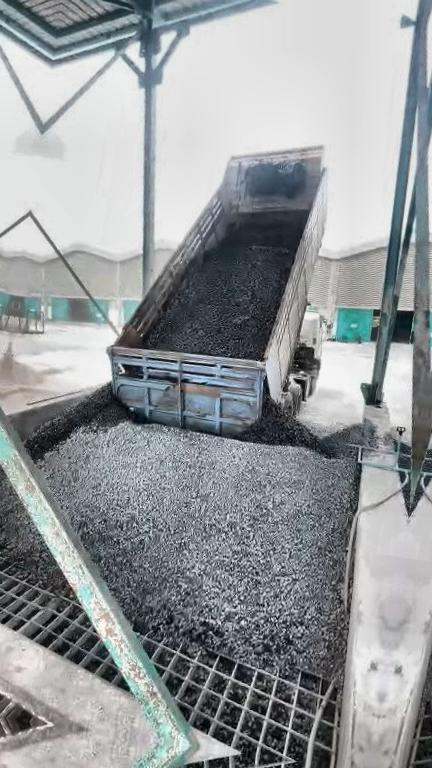gravel: (26, 385, 380, 676), (149, 214, 305, 358), (0, 464, 62, 587)
sand: (1, 359, 79, 412)
